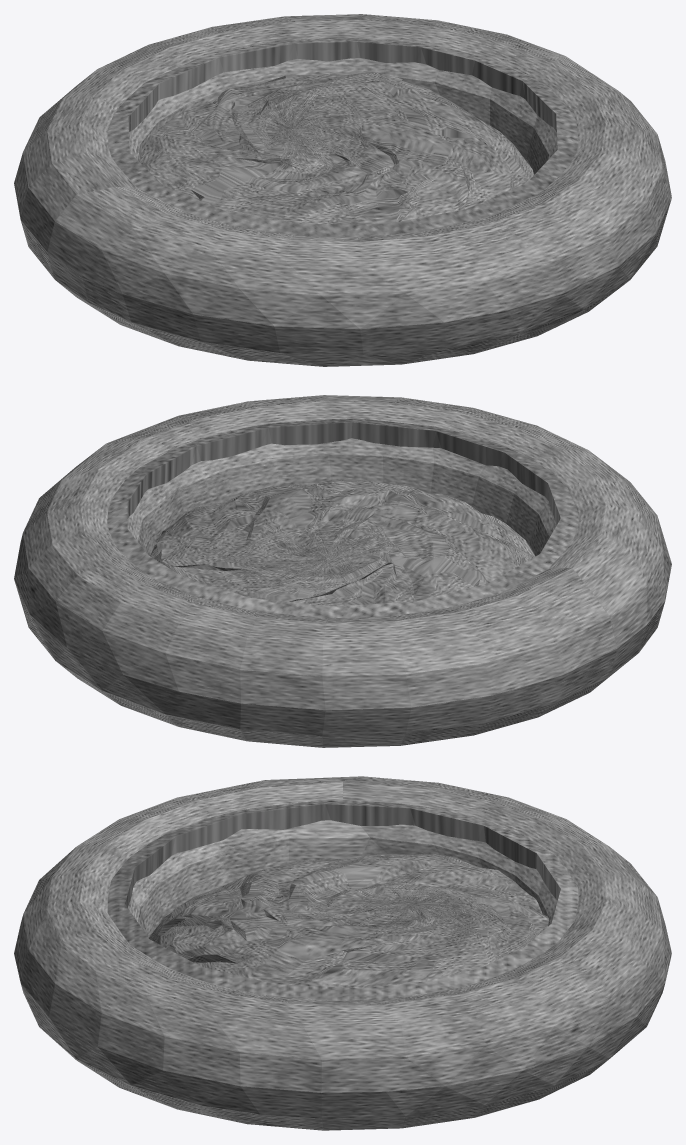
Rendered from cat bed.fbx.
The picture shows the model from 3 angles, top to bottom: view 1: azimuth 30°, elevation 25°; view 2: azimuth 150°, elevation 25°; view 3: azimuth 270°, elevation 25°; orthographic projection.
Visible parts, largest first — view 1: Cat Bed; view 2: Cat Bed; view 3: Cat Bed.
Boxes of the visible parts, box(x1,y1,x2,y2) form: Cat Bed: box(14, 14, 671, 366); Cat Bed: box(14, 395, 671, 747); Cat Bed: box(14, 776, 671, 1130).
Size of the model in its own units: 250 by 49.92 by 249.
